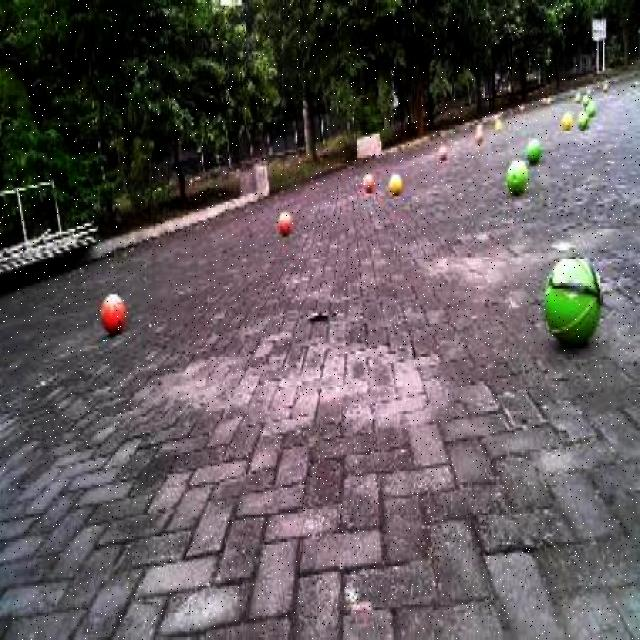buoy: (538, 241, 610, 355), (98, 287, 130, 342), (504, 154, 530, 198), (276, 201, 293, 237), (526, 134, 542, 166), (387, 168, 404, 195), (363, 170, 375, 193)
